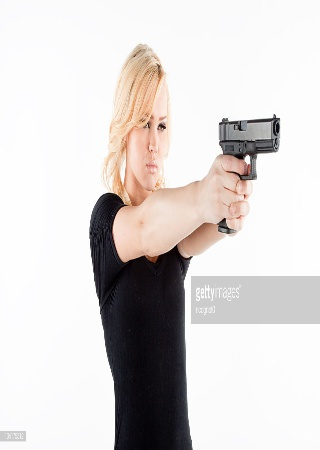handgun: (216, 113, 282, 237)
